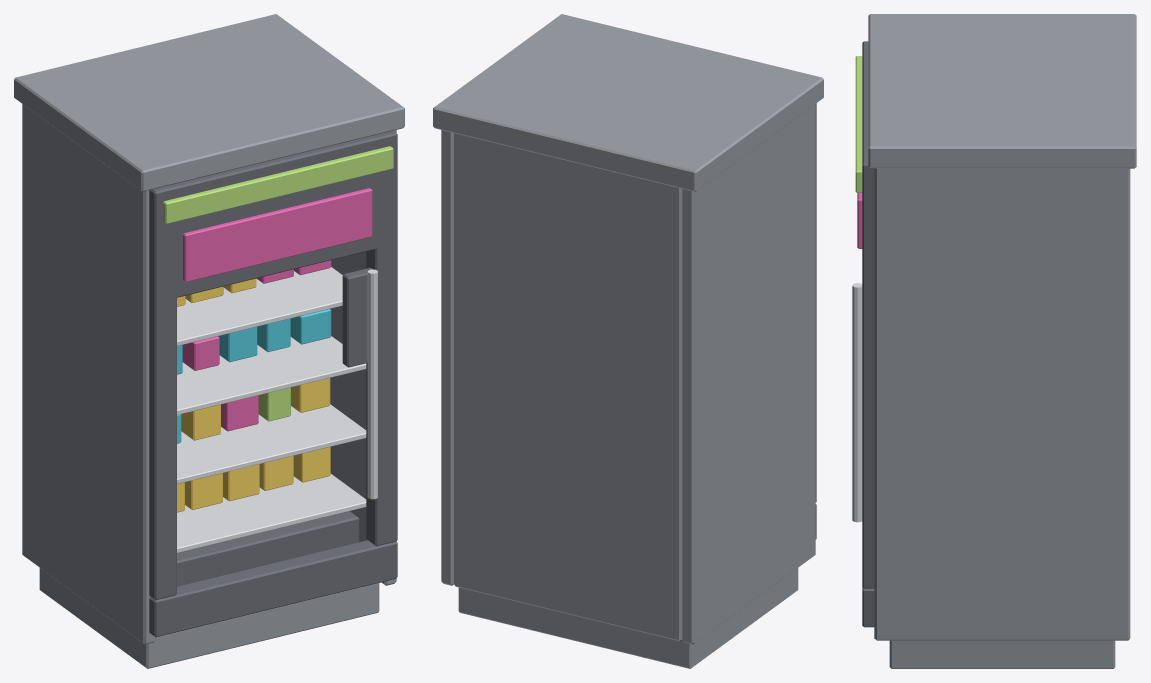
Rendered from laser-tag-arena-and-activity-centre-vending-machine-73e45792.glb.
3 views of the same model, side by side, from view 1: azimuth 30°, elevation 25°; view 2: azimuth 150°, elevation 25°; view 3: azimuth 270°, elevation 25° (orthographic). The views are drawn at different scales.
Visible parts, largest first — view 1: vending-machine, door, door/magenta, door/metal; view 2: vending-machine, door; view 3: vending-machine, door, door/metal.
Boxes of the visible parts, <box> form: vending-machine: <box>14,14,404,668</box>; door: <box>149,131,397,637</box>; door/magenta: <box>183,188,372,281</box>; door/metal: <box>367,269,377,499</box>; vending-machine: <box>433,14,823,668</box>; door: <box>815,103,816,539</box>; vending-machine: <box>855,14,1136,668</box>; door: <box>862,41,874,627</box>; door/metal: <box>852,283,862,522</box>.
Size of the model in its own units: 1.04 by 1.92 by 0.9321.
